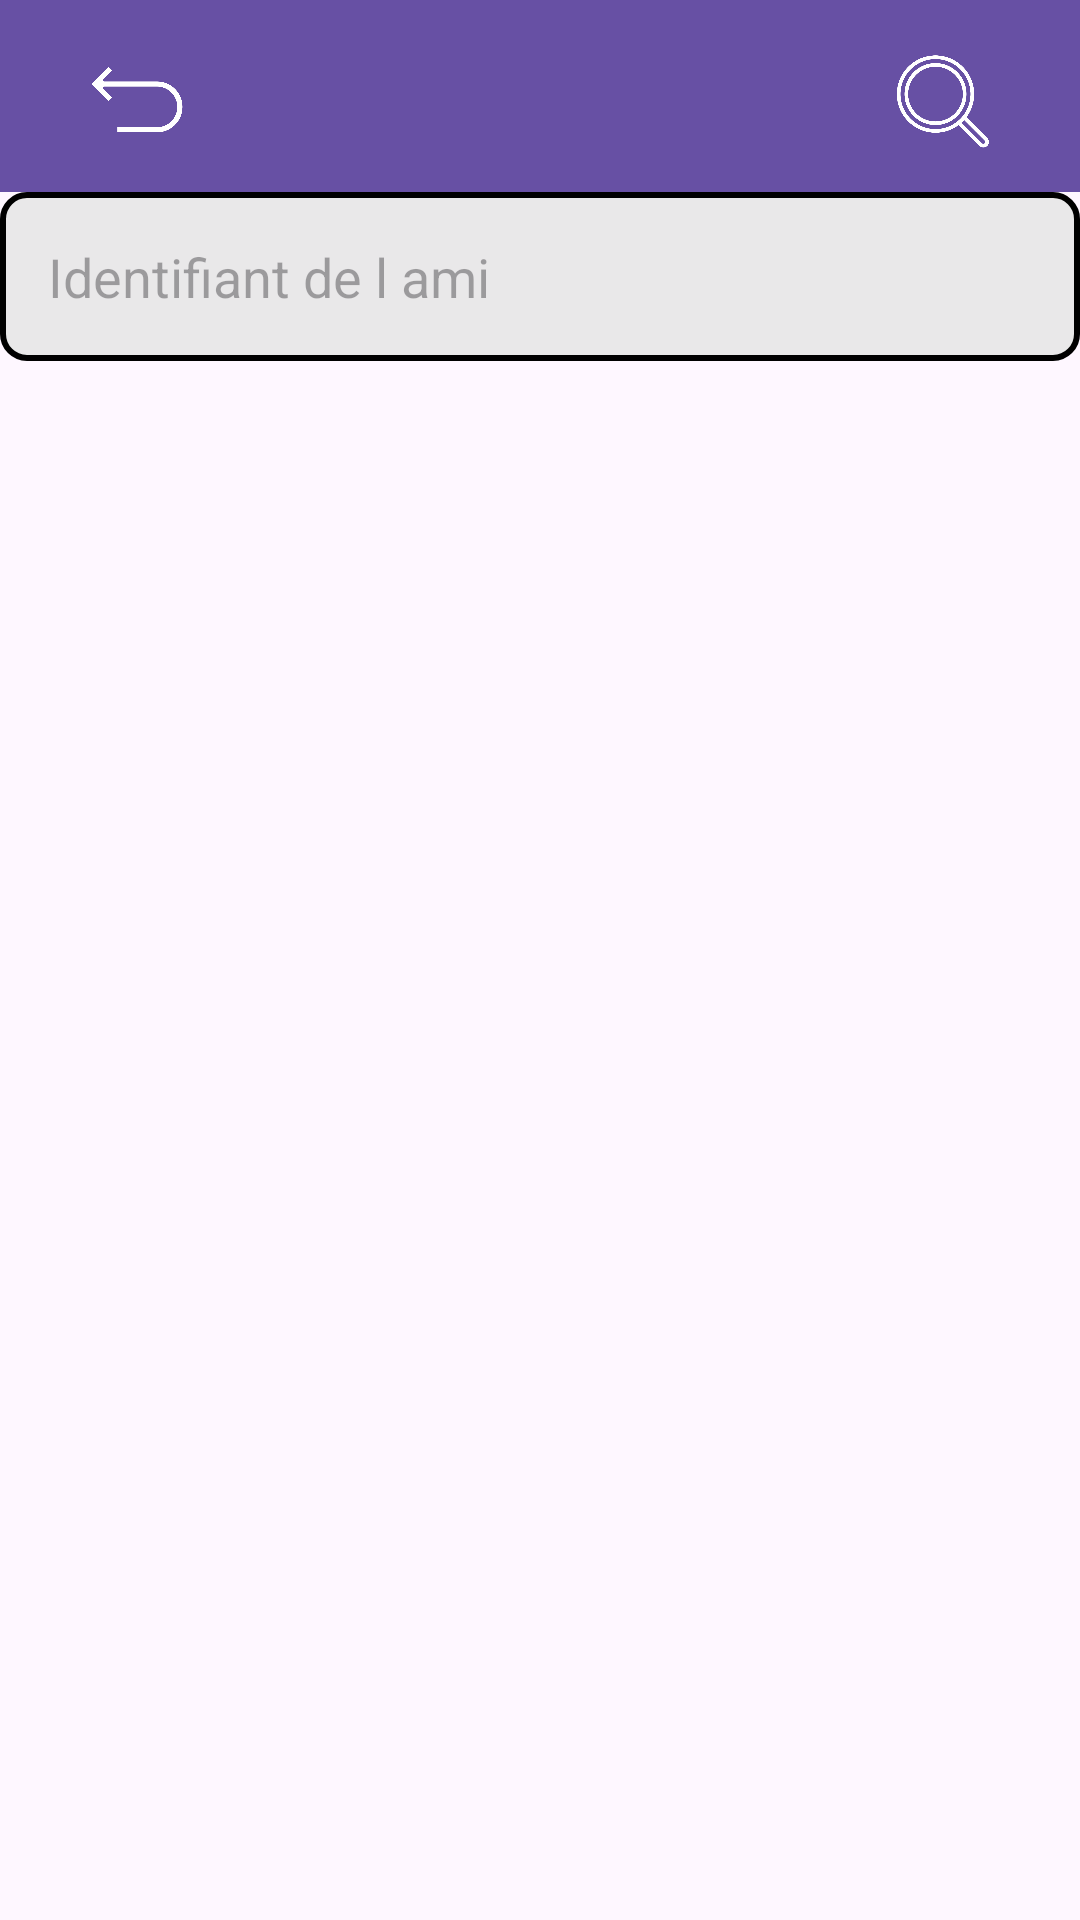

Where icons sit on this 1080px x 1920px app screen, as [x1=x1, y1=y1, x2=x2, y2=y2]:
back: [x1=92, y1=67, x2=183, y2=132]
loupe: [x1=897, y1=55, x2=989, y2=148]
